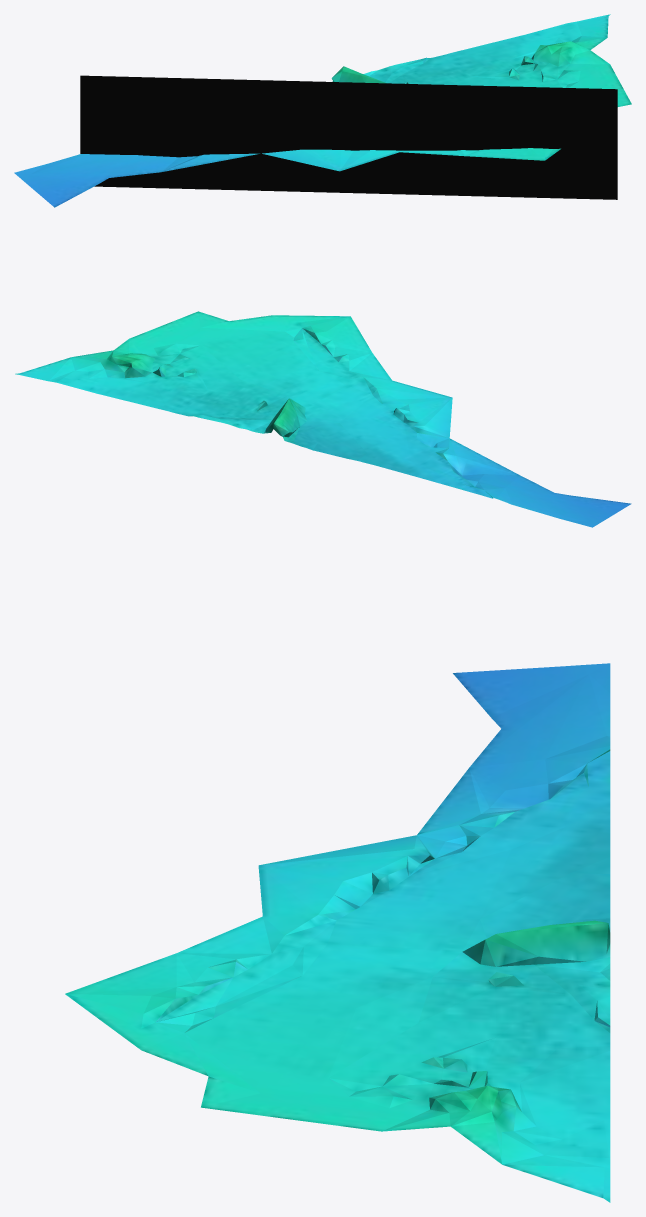
3 renders of one model, top to bottom at view 1: azimuth 30°, elevation 25°; view 2: azimuth 150°, elevation 25°; view 3: azimuth 270°, elevation 25°, orthographic. The views are drawn at different scales.
Size of the model in its own units: 50.81 by 9 by 21.85.
Materials: 2 (2 with a texture image).
